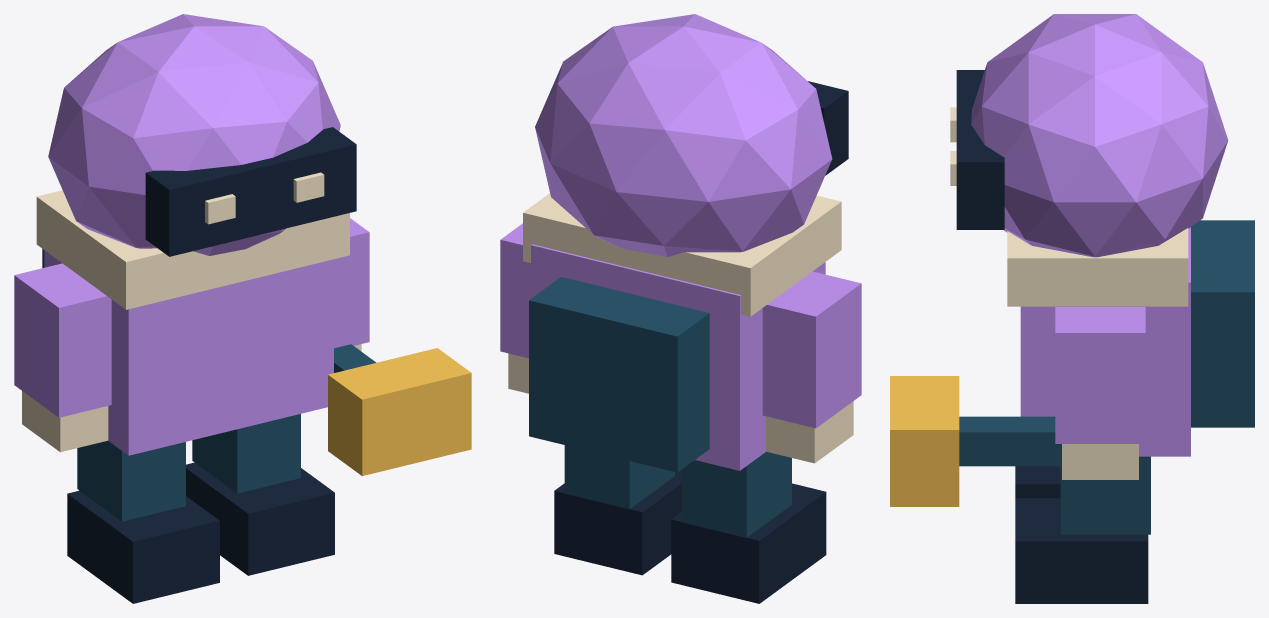
The model's file is repairer-purple.glb.
The picture shows the model from 3 angles, left to right: view 1: azimuth 30°, elevation 25°; view 2: azimuth 150°, elevation 25°; view 3: azimuth 270°, elevation 25°; orthographic projection.
Visible parts, largest first — view 1: Helmet, Jacket, Visor, Scarf, Hammer Head, Sleeve, Boot, Boot.001, Trouser, Trouser.001, Sleeve.001, Glove (+3 smaller); view 2: Helmet, Kit, Jacket, Sleeve, Scarf, Boot, Boot.001, Trouser, Trouser.001, Sleeve.001, Glove, Visor (+1 smaller); view 3: Helmet, Kit, Sleeve.001, Jacket, Boot.001, Scarf, Hammer Head, Visor, Trouser.001, Hammer Handle, Glove.001, Boot.
Boxes of the visible parts, left/top/right/bottom form: Helmet: left=48, top=14, right=340, bottom=255; Jacket: left=44, top=250, right=333, bottom=455; Visor: left=145, top=127, right=356, bottom=256; Scarf: left=36, top=190, right=349, bottom=309; Hammer Head: left=328, top=348, right=471, bottom=475; Sleeve: left=14, top=263, right=111, bottom=417; Boot: left=67, top=490, right=219, bottom=603; Boot.001: left=186, top=462, right=334, bottom=575; Trouser: left=77, top=440, right=185, bottom=521; Trouser.001: left=192, top=414, right=300, bottom=493; Sleeve.001: left=334, top=218, right=369, bottom=348; Glove: left=22, top=391, right=108, bottom=452; Helmet: left=535, top=14, right=832, bottom=256; Kit: left=529, top=277, right=709, bottom=472; Jacket: left=531, top=244, right=825, bottom=470; Sleeve: left=762, top=271, right=861, bottom=428; Scarf: left=523, top=193, right=841, bottom=316; Boot: left=671, top=483, right=826, bottom=603; Boot.001: left=554, top=470, right=681, bottom=575; Trouser: left=681, top=451, right=791, bottom=537; Trouser.001: left=564, top=445, right=674, bottom=509; Sleeve.001: left=500, top=223, right=530, bottom=358; Glove: left=766, top=401, right=853, bottom=463; Visor: left=808, top=81, right=848, bottom=175; Helmet: left=971, top=14, right=1228, bottom=257; Kit: left=1191, top=220, right=1254, bottom=427; Sleeve.001: left=1055, top=307, right=1145, bottom=443; Jacket: left=1020, top=227, right=1190, bottom=456; Boot.001: left=1015, top=498, right=1148, bottom=603; Scarf: left=1007, top=228, right=1188, bottom=306; Hammer Head: left=890, top=376, right=959, bottom=506; Visor: left=956, top=70, right=1004, bottom=229; Trouser.001: left=1060, top=456, right=1150, bottom=534; Hammer Handle: left=959, top=416, right=1061, bottom=466; Glove.001: left=1062, top=444, right=1138, bottom=479; Boot: left=1015, top=466, right=1060, bottom=498.
Size of the model in its own units: 0.725 by 1.1 by 0.685.
